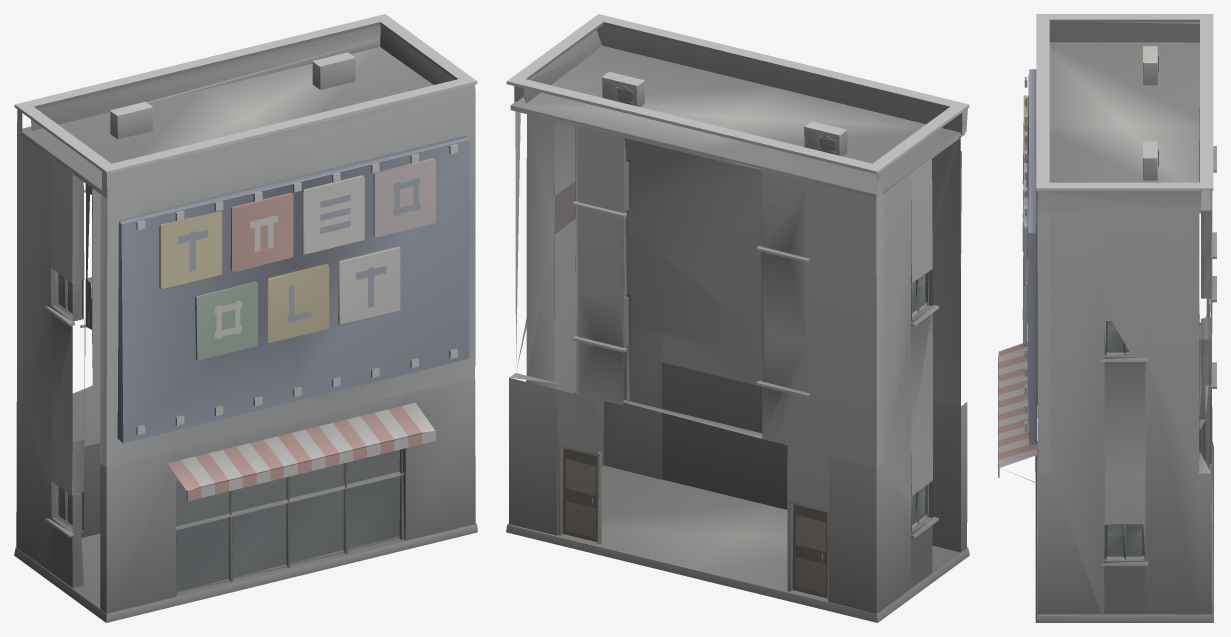
The model's file is parlour.lod2.glb.
3 views of the same model, side by side, from view 1: azimuth 30°, elevation 25°; view 2: azimuth 150°, elevation 25°; view 3: azimuth 270°, elevation 25° (orthographic). The views are drawn at different scales.
Size of the model in its own units: 8.2 by 9.37 by 4.28.
